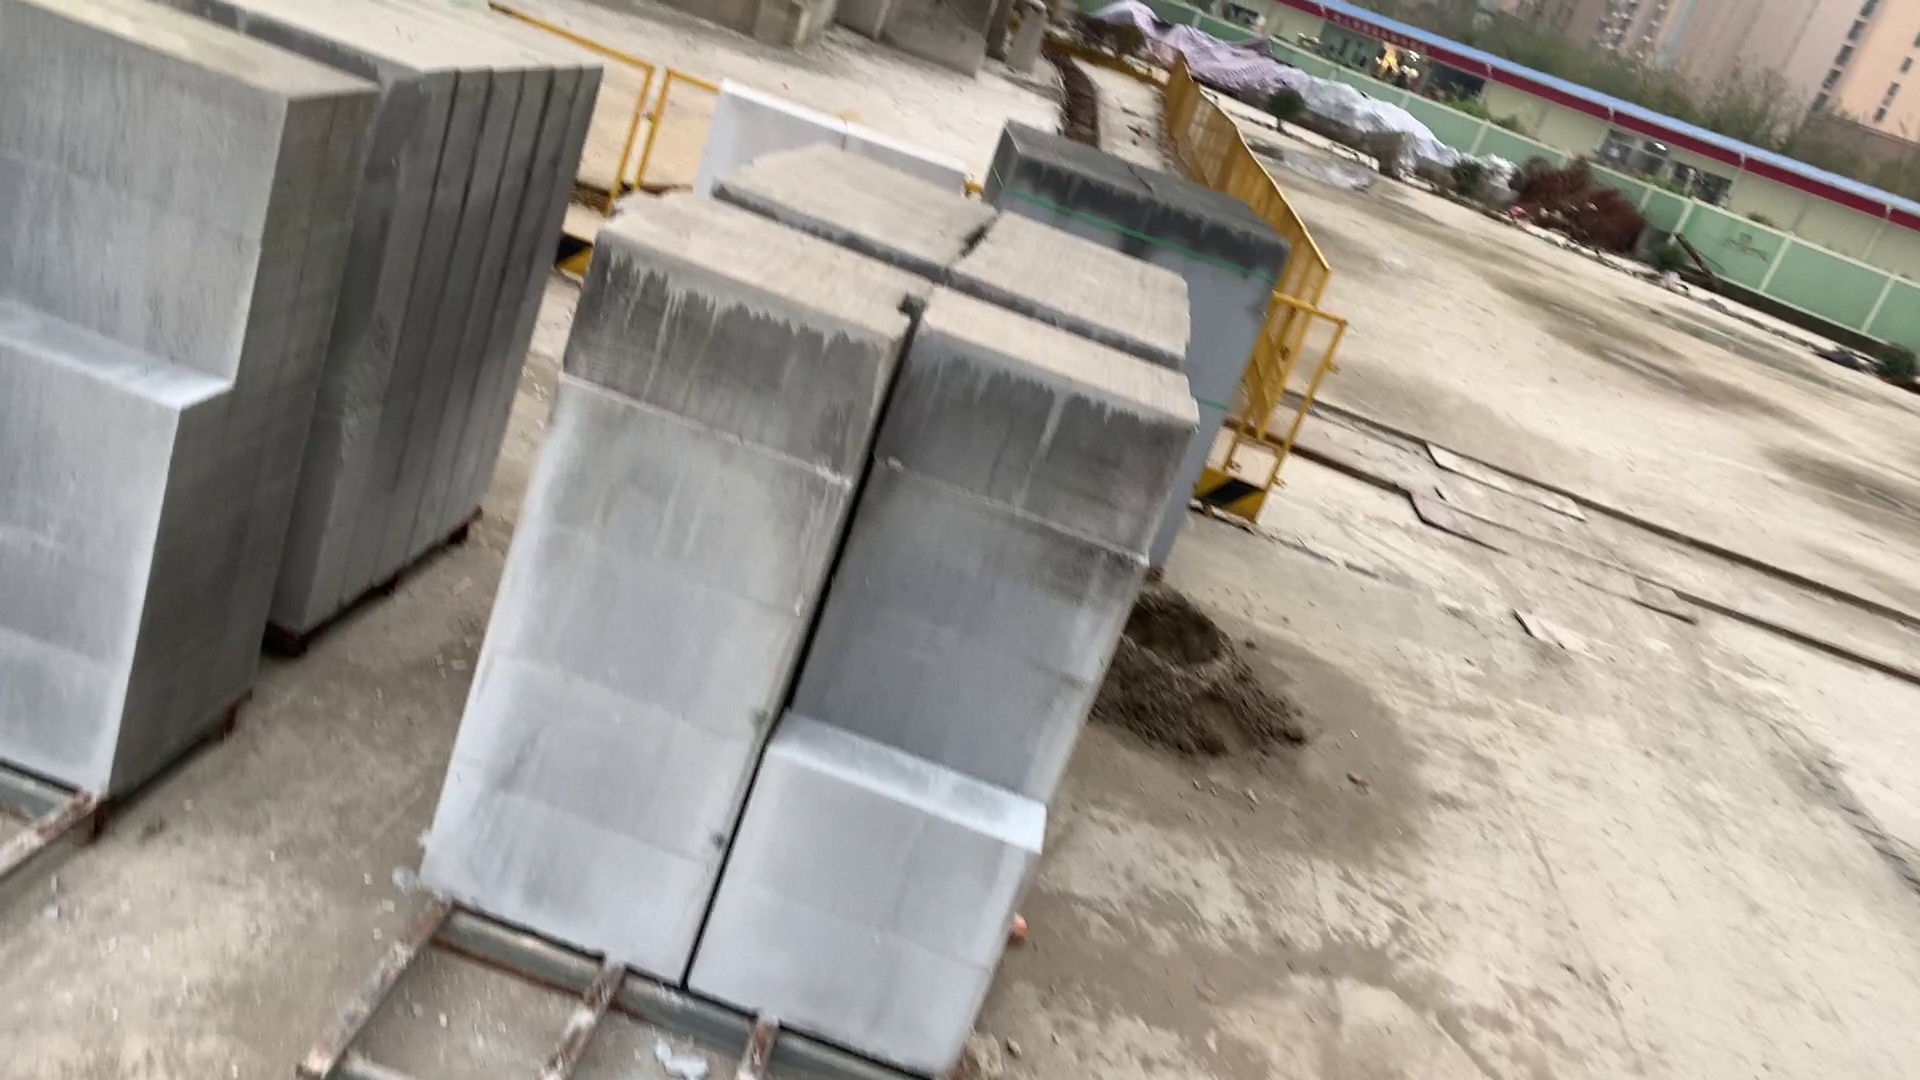brickwork: (419, 148, 1182, 1065), (3, 4, 376, 804), (239, 3, 608, 645), (992, 120, 1261, 582)
